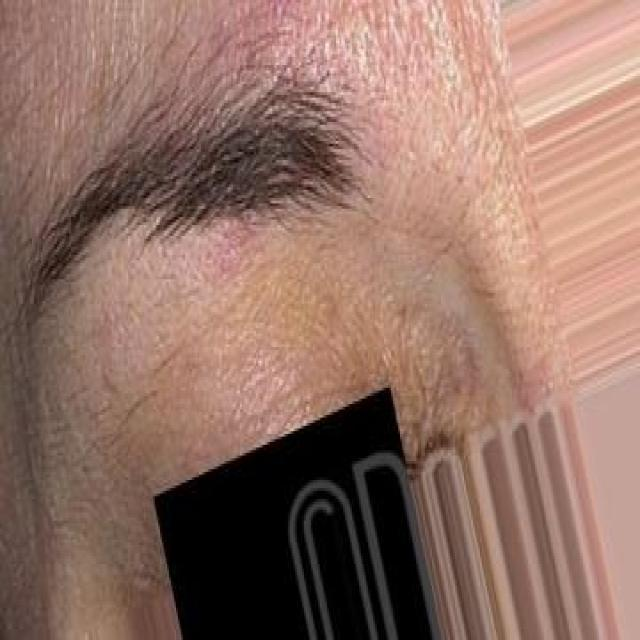Rosacea: (192, 0, 322, 86), (192, 222, 255, 286)
